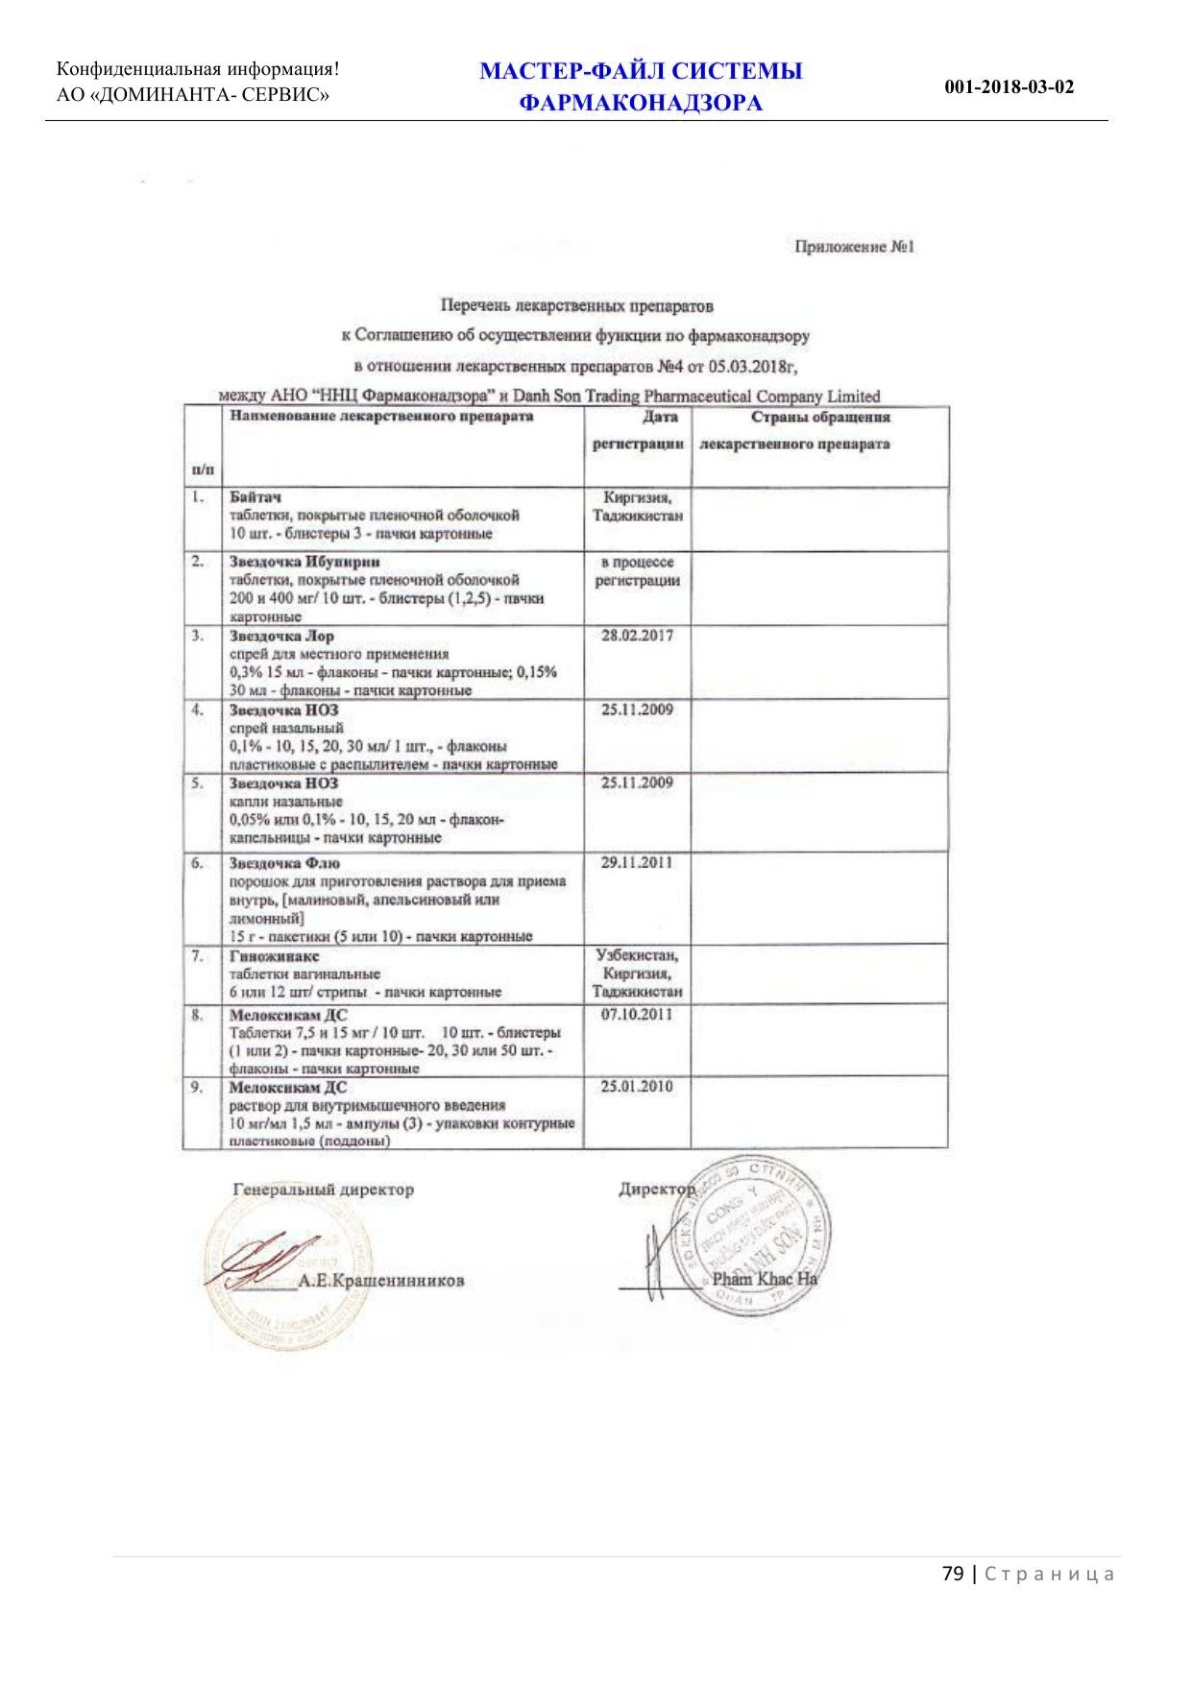full_lined: (181, 404, 951, 1151)
